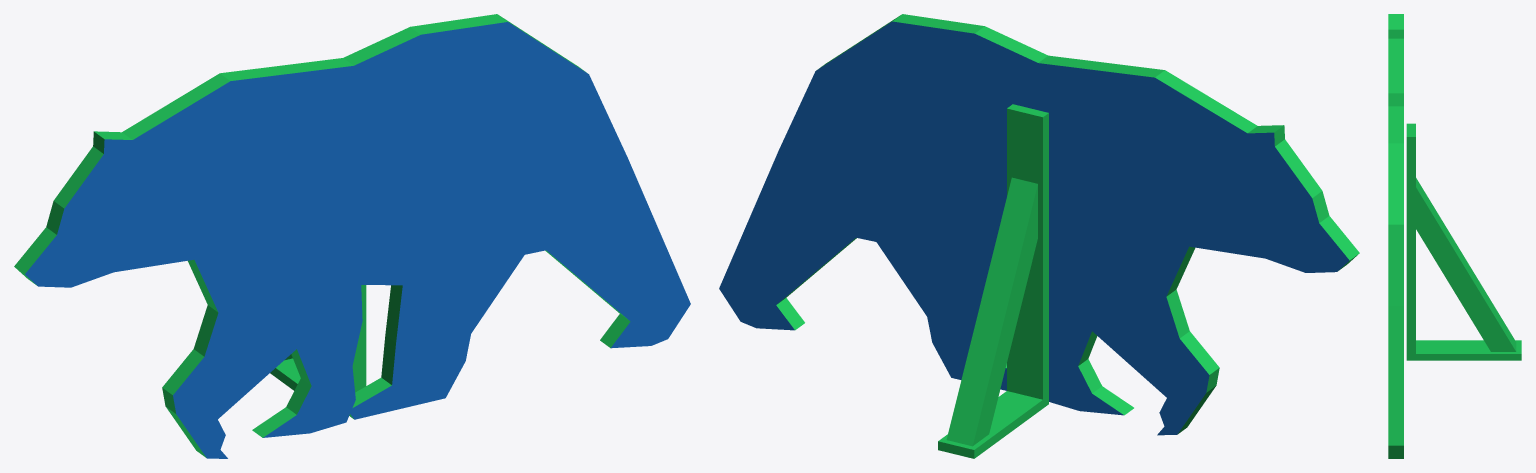
File: SM_plywood_fence_1.fbx
The picture shows the model from 3 angles, left to right: view 1: azimuth 30°, elevation 25°; view 2: azimuth 150°, elevation 25°; view 3: azimuth 270°, elevation 25°; orthographic projection. The views are drawn at different scales.
Visible parts, largest first — view 1: Cube_39; view 2: Cube_39; view 3: Cube_39.
Part boxes in pixels (left/top/right/bottom): Cube_39: left=14, top=14, right=690, bottom=458; Cube_39: left=719, top=14, right=1359, bottom=458; Cube_39: left=1388, top=14, right=1521, bottom=458.
Size of the model in its own units: 178 by 96.53 by 42.44.
